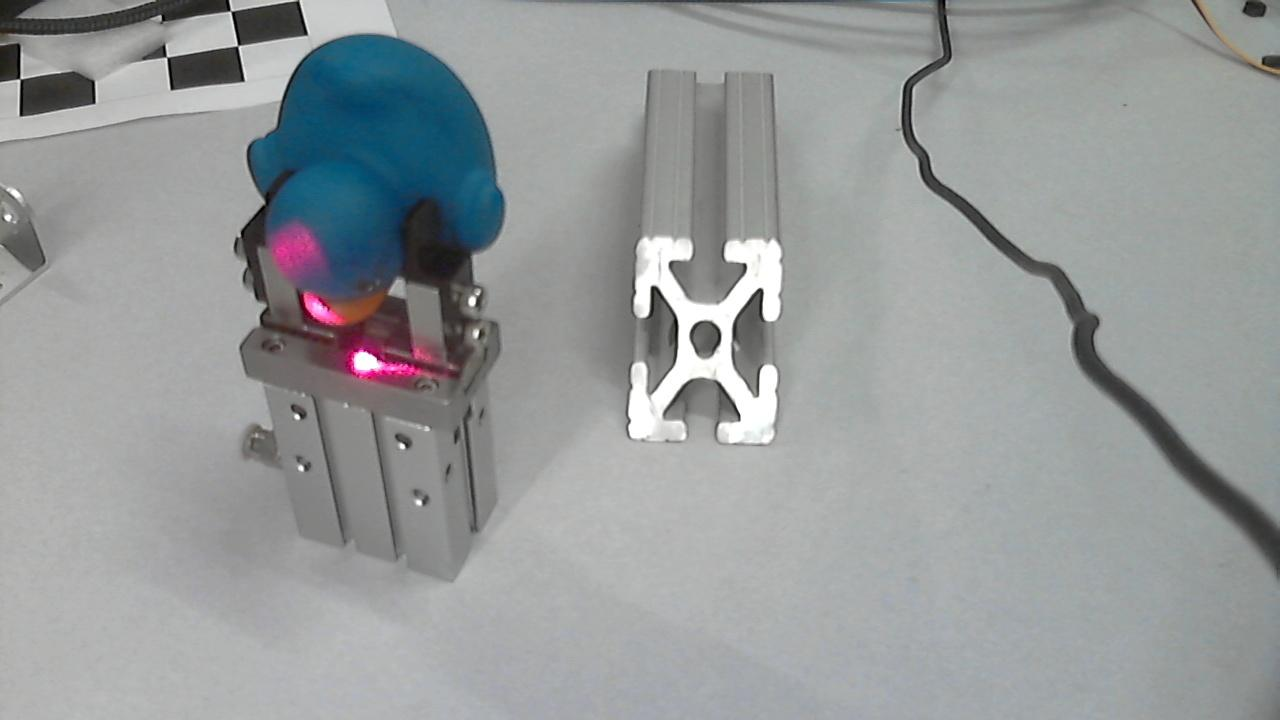Object scissors - Material metal - Pdfname tYexGlkiIXWc: (240, 207, 365, 325)
